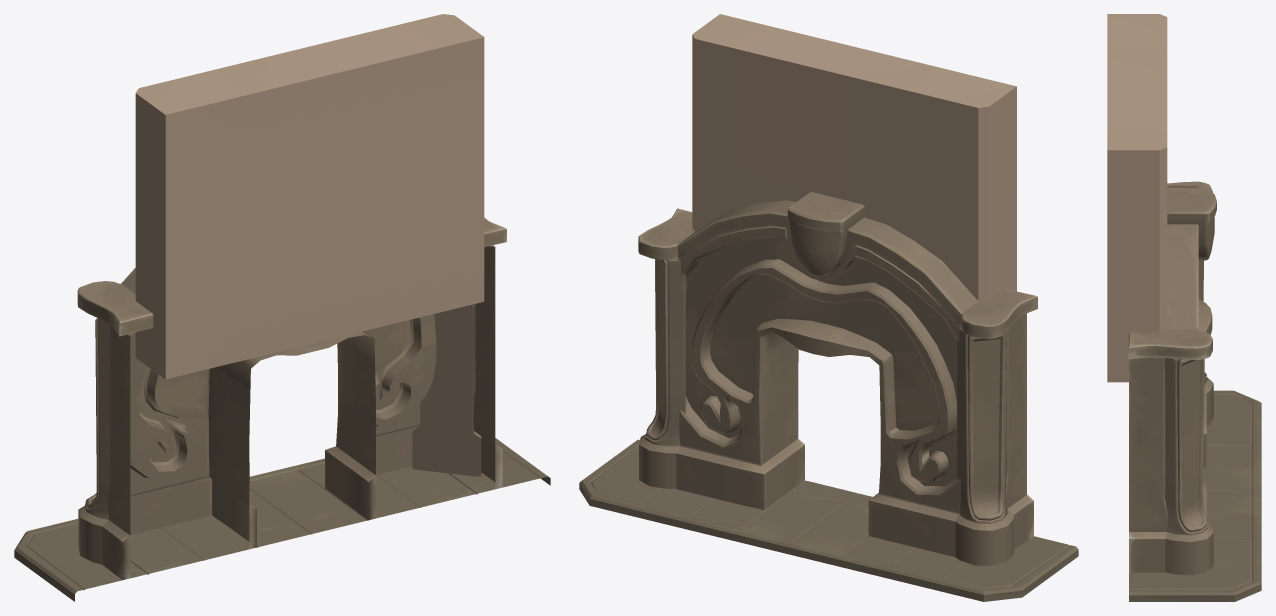
File: Fireplace.fbx
The picture shows the model from 3 angles, left to right: view 1: azimuth 30°, elevation 25°; view 2: azimuth 150°, elevation 25°; view 3: azimuth 270°, elevation 25°; orthographic projection. The views are drawn at different scales.
Visible parts, largest first — view 1: fireplaceWall, fireplace, fireplaceFloor, fireplaceLateral, fireplaceLateral1, firePlaceTop; view 2: fireplace, fireplaceWall, fireplaceFloor, firePlaceTop, fireplaceLateral1, fireplaceLateral, fireplaceCenterDetail; view 3: fireplaceWall, fireplaceFloor, fireplaceLateral, fireplace, firePlaceTop, fireplaceCenterDetail, fireplaceLateral1.
Part boxes in pixels (x1,y1,x2,y2): fireplaceWall: (135, 14, 484, 379); fireplace: (102, 245, 502, 579); fireplaceFloor: (14, 438, 550, 601); fireplaceLateral: (412, 304, 481, 476); fireplaceLateral1: (78, 318, 130, 564); firePlaceTop: (77, 217, 506, 336); fireplace: (676, 226, 1033, 557); fireplaceWall: (692, 14, 1016, 301); fireplaceFloor: (579, 439, 1078, 601); firePlaceTop: (638, 200, 1037, 339); fireplaceLateral1: (955, 328, 1013, 566); fireplaceLateral: (639, 257, 685, 488); fireplaceCenterDetail: (787, 192, 864, 275); fireplaceWall: (1107, 14, 1167, 382); fireplaceFloor: (1129, 390, 1261, 601); fireplaceLateral: (1164, 358, 1213, 575); fireplace: (1129, 299, 1212, 572); firePlaceTop: (1128, 181, 1212, 359); fireplaceCenterDetail: (1167, 187, 1216, 260); fireplaceLateral1: (1198, 260, 1213, 426).
Bounding box in the file's own units: 17 × 16.28 × 5.44.
